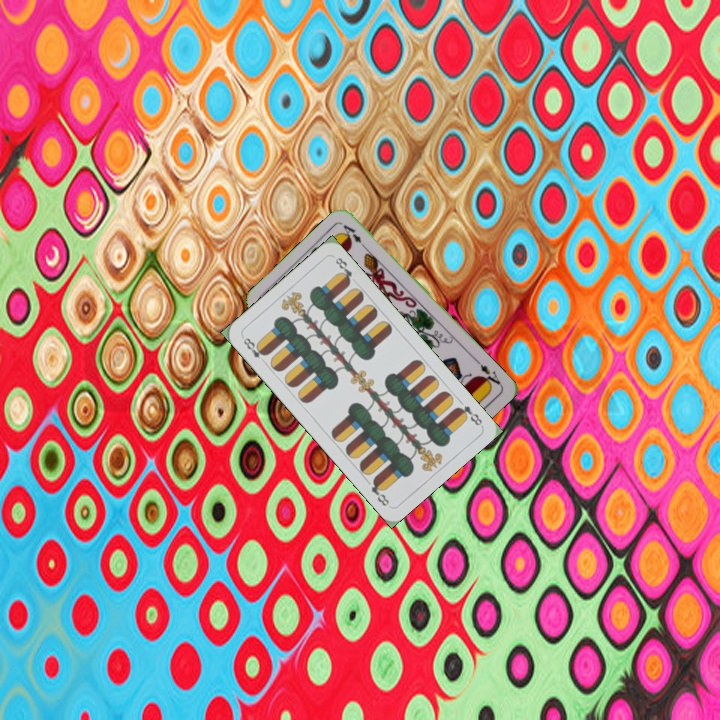E8: (238, 333, 270, 361), (452, 401, 485, 428)
EA: (472, 355, 504, 390)
